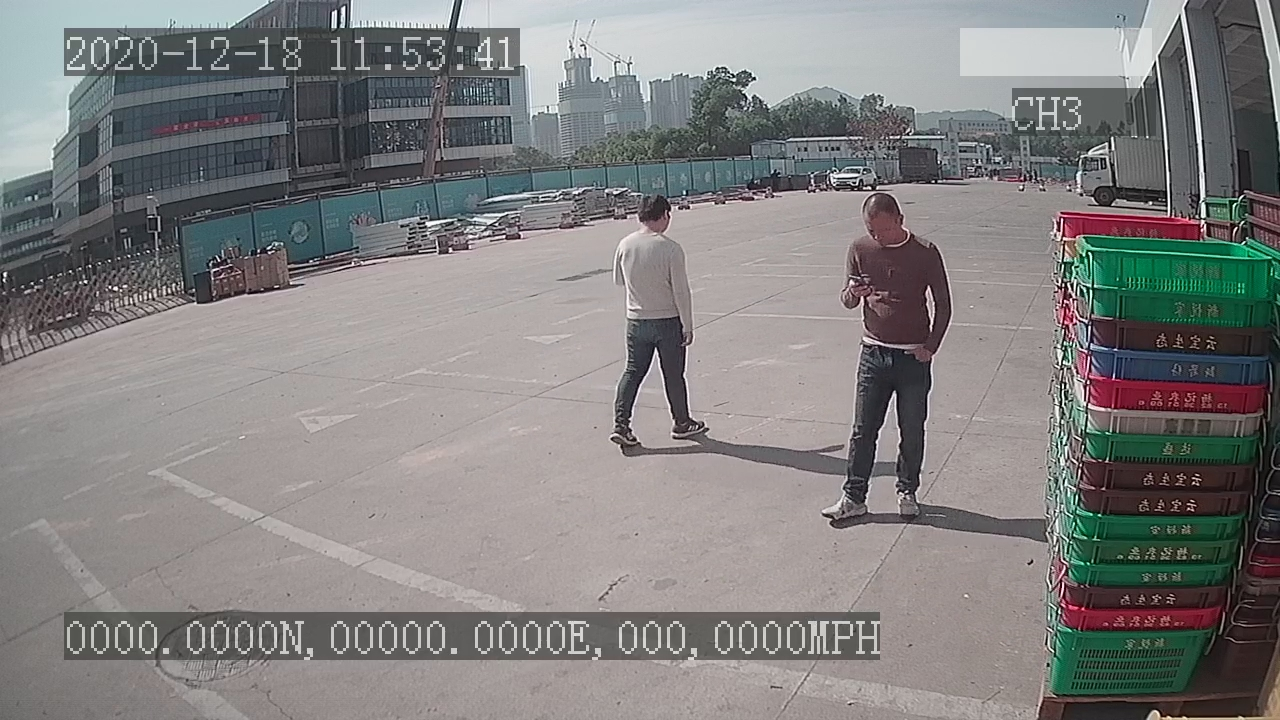person: (818, 186, 959, 533), (601, 194, 717, 456)
